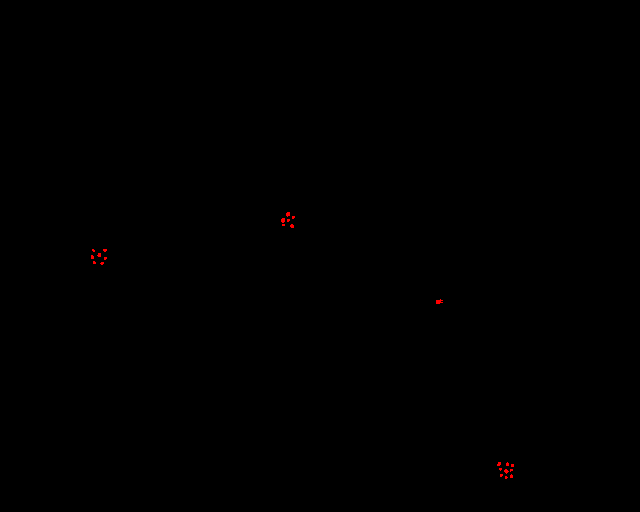Target: (436, 299, 443, 304), (504, 469, 509, 474), (286, 212, 290, 217), (281, 218, 285, 223), (290, 224, 294, 228), (97, 253, 101, 257), (497, 462, 501, 466), (103, 249, 107, 252), (91, 255, 94, 259), (100, 262, 104, 265), (506, 462, 509, 466), (510, 474, 513, 478), (292, 216, 295, 219), (287, 219, 290, 222), (92, 249, 95, 252), (104, 257, 107, 260), (93, 261, 96, 264), (511, 464, 514, 467), (499, 468, 502, 471), (510, 469, 513, 472), (500, 474, 503, 477), (505, 476, 508, 479), (282, 224, 285, 226)
